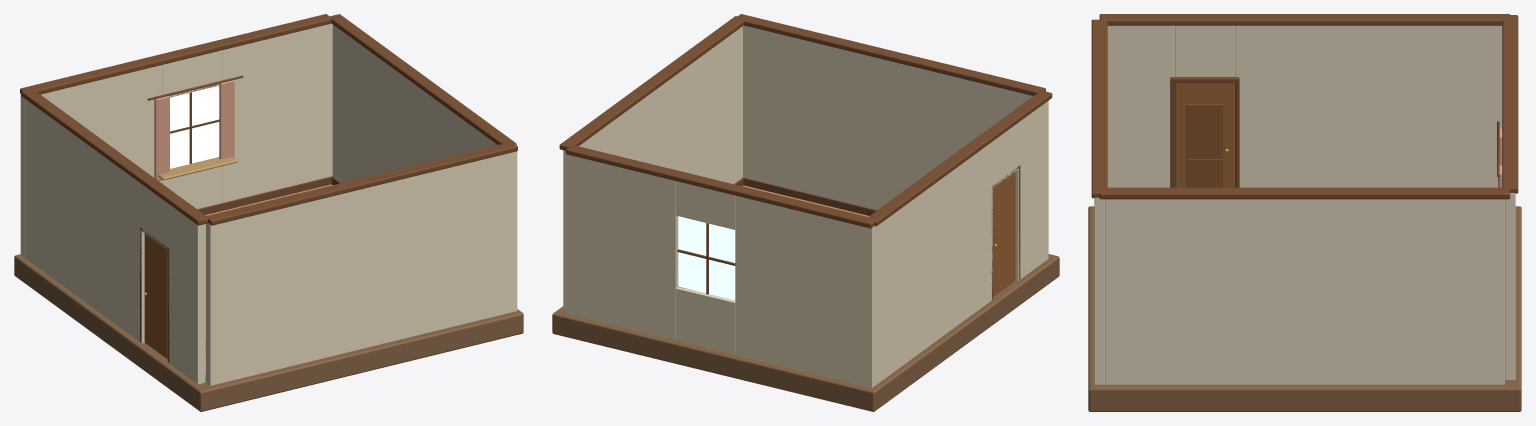
File: cabin_room_shell.glb
3 renders of one model, left to right at view 1: azimuth 30°, elevation 25°; view 2: azimuth 150°, elevation 25°; view 3: azimuth 270°, elevation 25°, orthographic. The views are drawn at different scales.
Visible parts, largest first — view 1: wall_front, wall_back, wall_left, wall_right, slab, window_glass, window_curtains, leaf, window_frame; view 2: wall_back, wall_front, wall_left, wall_right, slab, window_glass, leaf; view 3: wall_right, wall_left, slab, wall_front, wall_back, leaf, panel-top, door_frame, panel-bottom.
Part boxes in pixels (x1,y1,x2,y2): wall_front: [205, 143, 517, 385]; wall_back: [20, 14, 331, 257]; wall_left: [21, 89, 208, 384]; wall_right: [330, 14, 516, 184]; slab: [14, 254, 523, 411]; window_glass: [170, 86, 219, 168]; window_curtains: [147, 75, 243, 180]; leaf: [144, 234, 167, 359]; window_frame: [158, 84, 237, 180]; wall_back: [566, 145, 876, 387]; wall_front: [736, 14, 1045, 215]; wall_left: [868, 90, 1052, 384]; wall_right: [559, 16, 745, 308]; slab: [552, 254, 1059, 411]; window_glass: [678, 216, 735, 300]; leaf: [992, 171, 1015, 296]; wall_right: [1099, 187, 1510, 384]; wall_left: [1099, 14, 1509, 187]; slab: [1088, 206, 1521, 411]; wall_front: [1091, 19, 1107, 384]; wall_back: [1502, 15, 1518, 380]; leaf: [1175, 82, 1234, 187]; panel-top: [1186, 104, 1223, 158]; door_frame: [1170, 77, 1239, 187]; panel-bottom: [1186, 158, 1223, 187].
Bounding box in the file's own units: 6.5 × 3.6 × 6.5.
